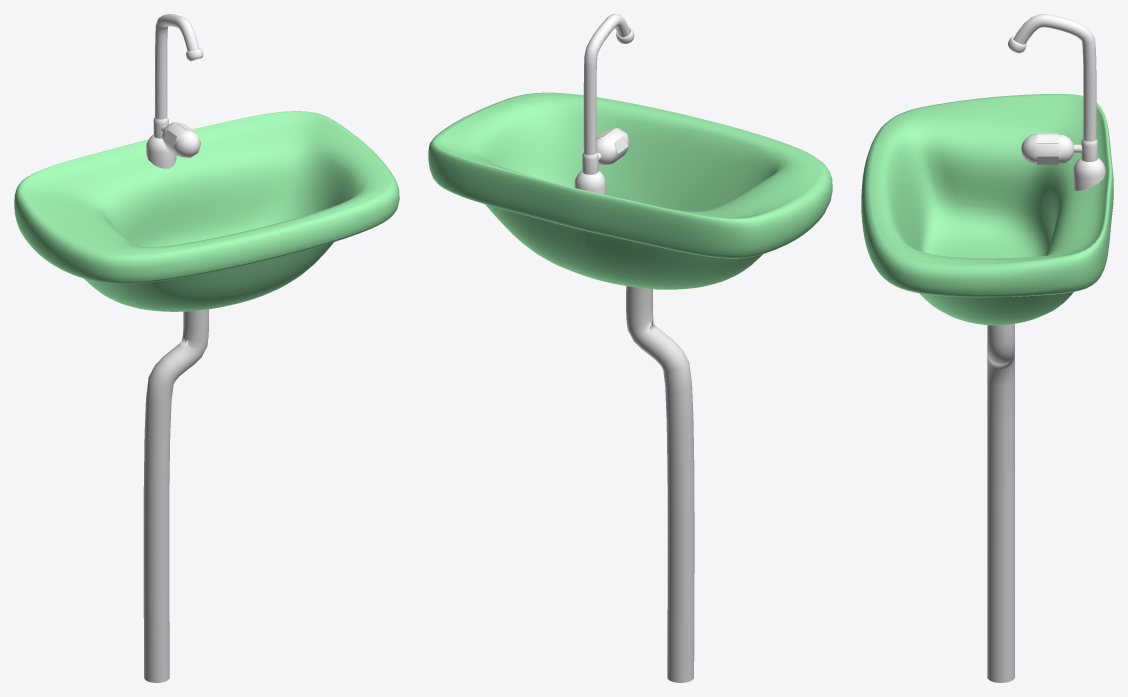
Rendered from Showersink.FBX.
The picture shows the model from 3 angles, left to right: view 1: azimuth 30°, elevation 25°; view 2: azimuth 150°, elevation 25°; view 3: azimuth 270°, elevation 25°; orthographic projection. The views are drawn at different scales.
Parts seen in each view (by area): view 1: Sphere01, Loft01; view 2: Sphere01, Loft01; view 3: Sphere01, Loft01.
Part boxes in pixels (x1,y1,x2,y2): Sphere01: [14, 14, 399, 311]; Loft01: [143, 309, 208, 682]; Sphere01: [428, 14, 832, 289]; Loft01: [626, 286, 694, 682]; Sphere01: [861, 14, 1113, 325]; Loft01: [987, 324, 1014, 682].
Bounding box in the file's own units: 816 × 1482 × 494.
